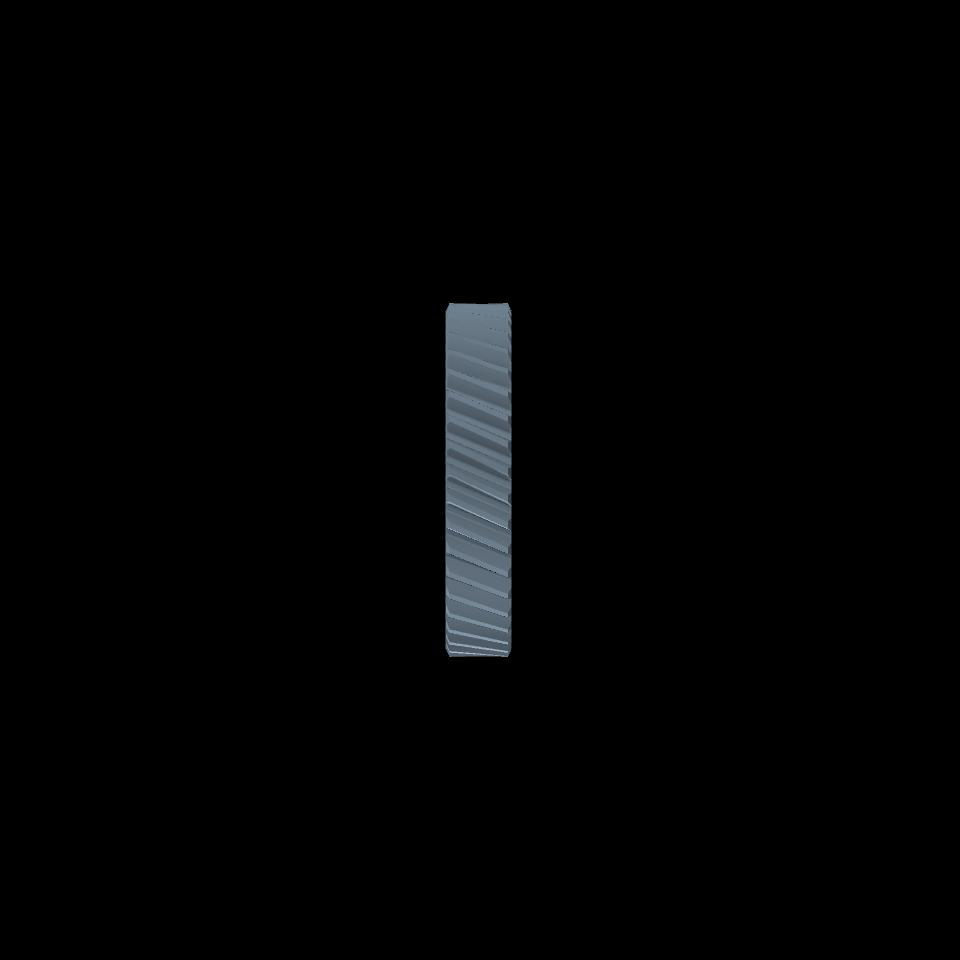Helical: (452, 302, 504, 656)
